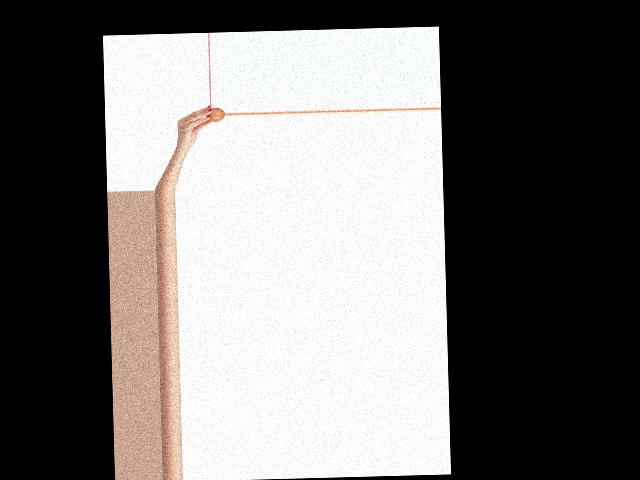egg: (206, 107, 224, 122)
